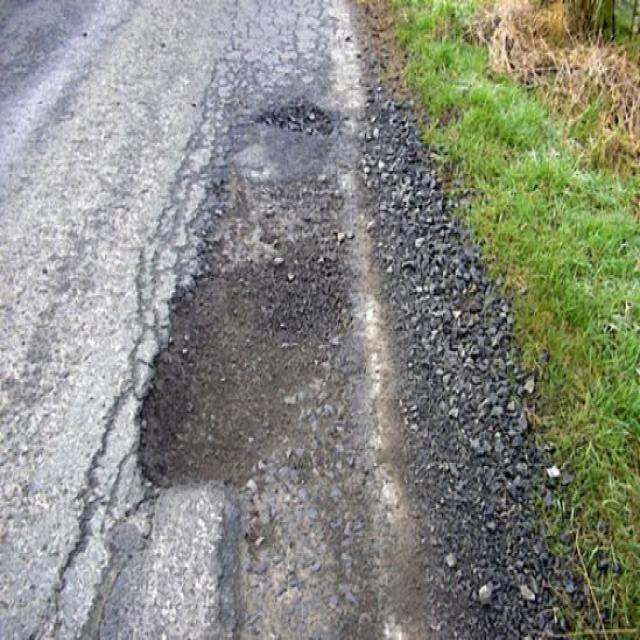Pothole: (131, 241, 355, 494)
